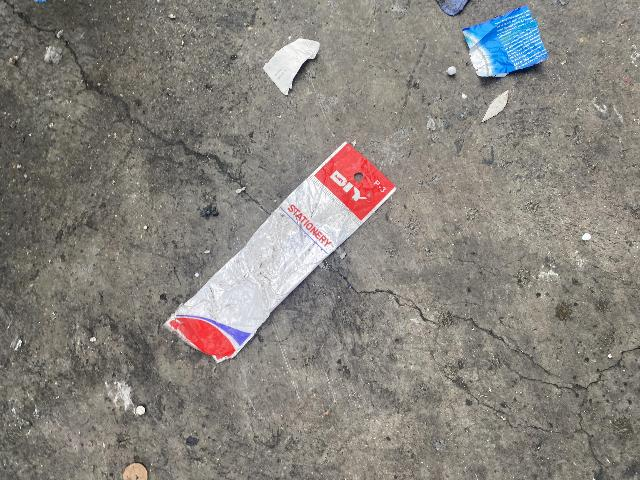Kagit: (260, 37, 321, 96)
Plastik: (157, 141, 398, 364), (460, 5, 549, 81)
